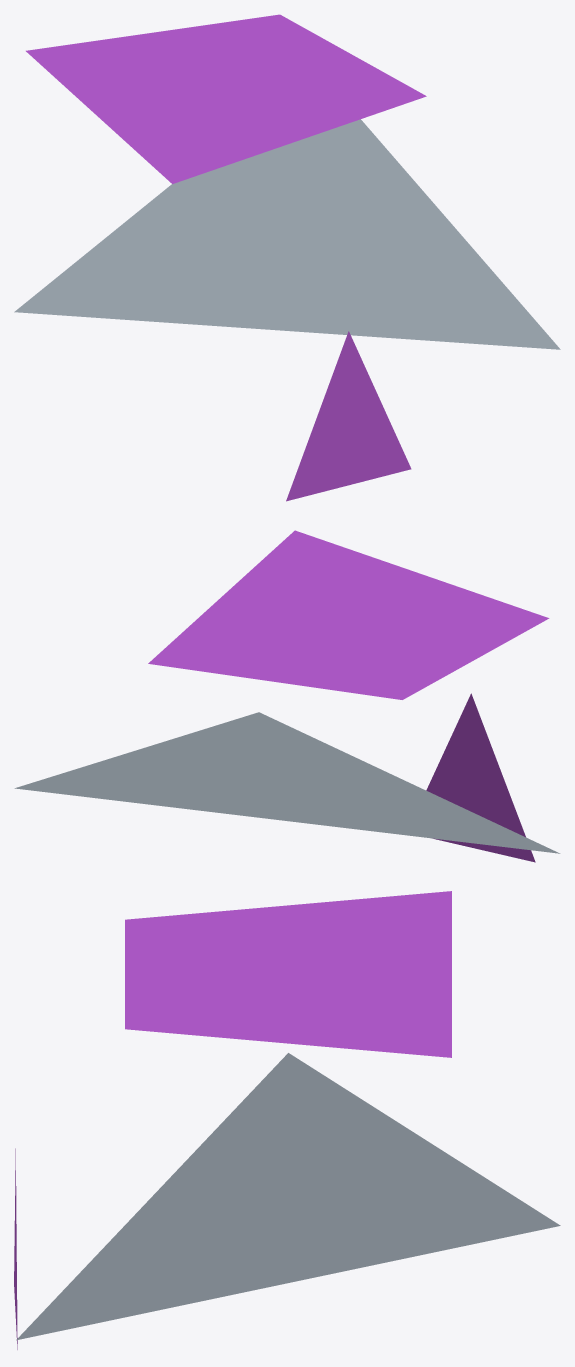
Rendered from CH_SuperweaponRewind_LOD2.glb.
3 renders of one model, top to bottom at view 1: azimuth 30°, elevation 25°; view 2: azimuth 150°, elevation 25°; view 3: azimuth 270°, elevation 25°, orthographic. The views are drawn at different scales.
Visible parts, largest first — view 1: EntranceGate; view 2: EntranceGate; view 3: EntranceGate.
Boxes of the visible parts, x1,y1,x2,y2 form: EntranceGate: (14, 14, 560, 501); EntranceGate: (14, 530, 560, 862); EntranceGate: (14, 891, 560, 1349).
Bounding box in the file's own units: 1000 × 725 × 1003.
